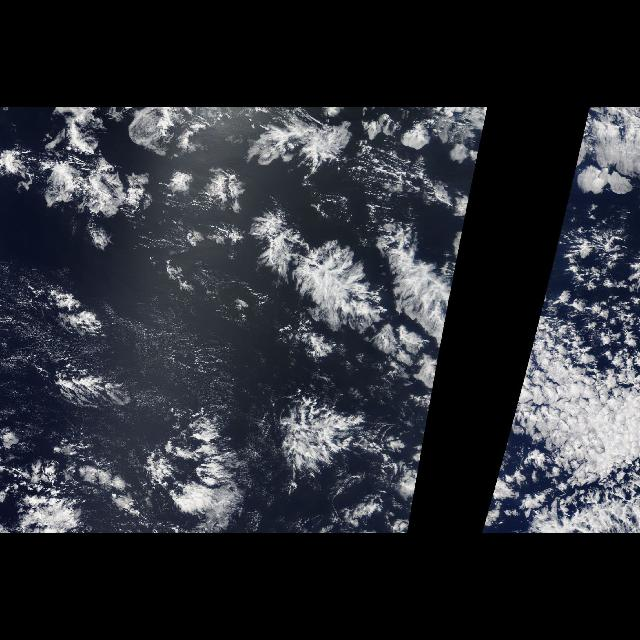Fish: (2, 143, 452, 363)
Flower: (19, 110, 428, 520)
Sugar: (121, 300, 259, 410)
